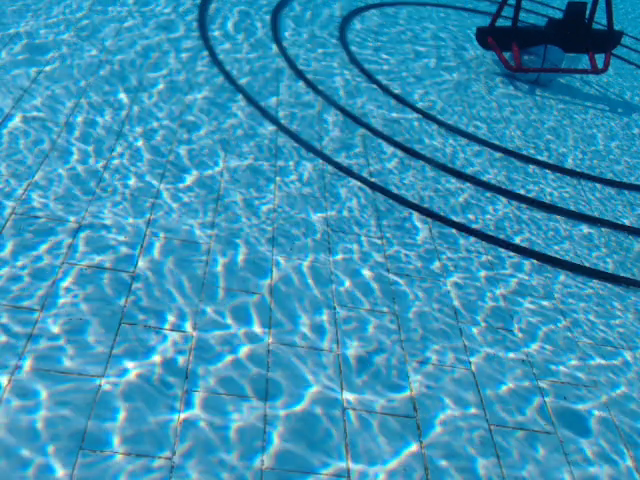submarine: (475, 1, 626, 79)
